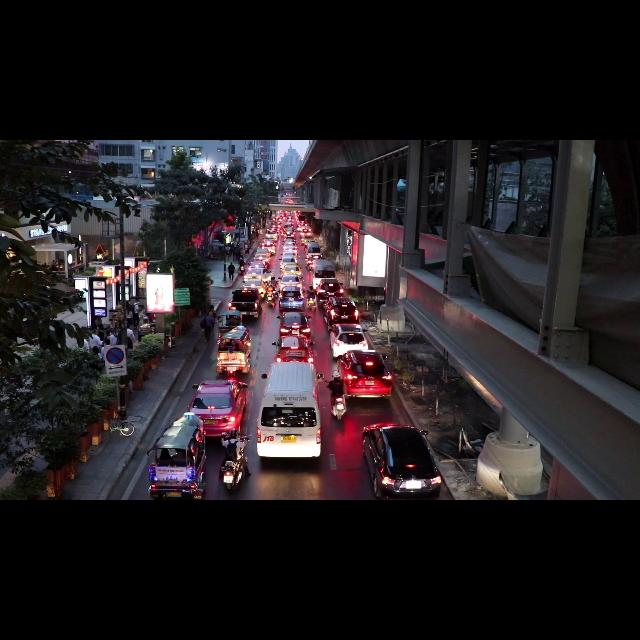car: (258, 364, 322, 460), (363, 424, 442, 498), (190, 380, 247, 436), (338, 350, 392, 397), (330, 324, 368, 357), (324, 297, 359, 330), (272, 336, 313, 362), (278, 312, 310, 337), (232, 289, 262, 315), (316, 279, 344, 304), (279, 286, 304, 310), (243, 278, 265, 297), (244, 268, 271, 281), (280, 275, 301, 288), (252, 253, 270, 267), (261, 240, 275, 255), (282, 265, 301, 276), (281, 256, 297, 268), (254, 248, 270, 257), (249, 260, 266, 268), (283, 251, 297, 259), (266, 229, 277, 239), (283, 246, 297, 253), (285, 235, 296, 243), (285, 226, 293, 235), (284, 240, 295, 246)
motorcycle: (222, 460, 244, 489), (331, 390, 346, 419), (332, 396, 346, 420), (307, 297, 315, 309), (267, 292, 274, 305), (239, 265, 245, 276)
